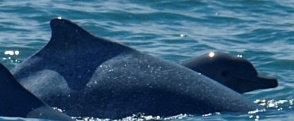fin: (10, 13, 220, 121)
